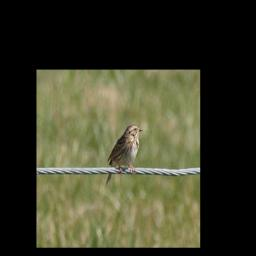Sparrow: (106, 122, 145, 186)
